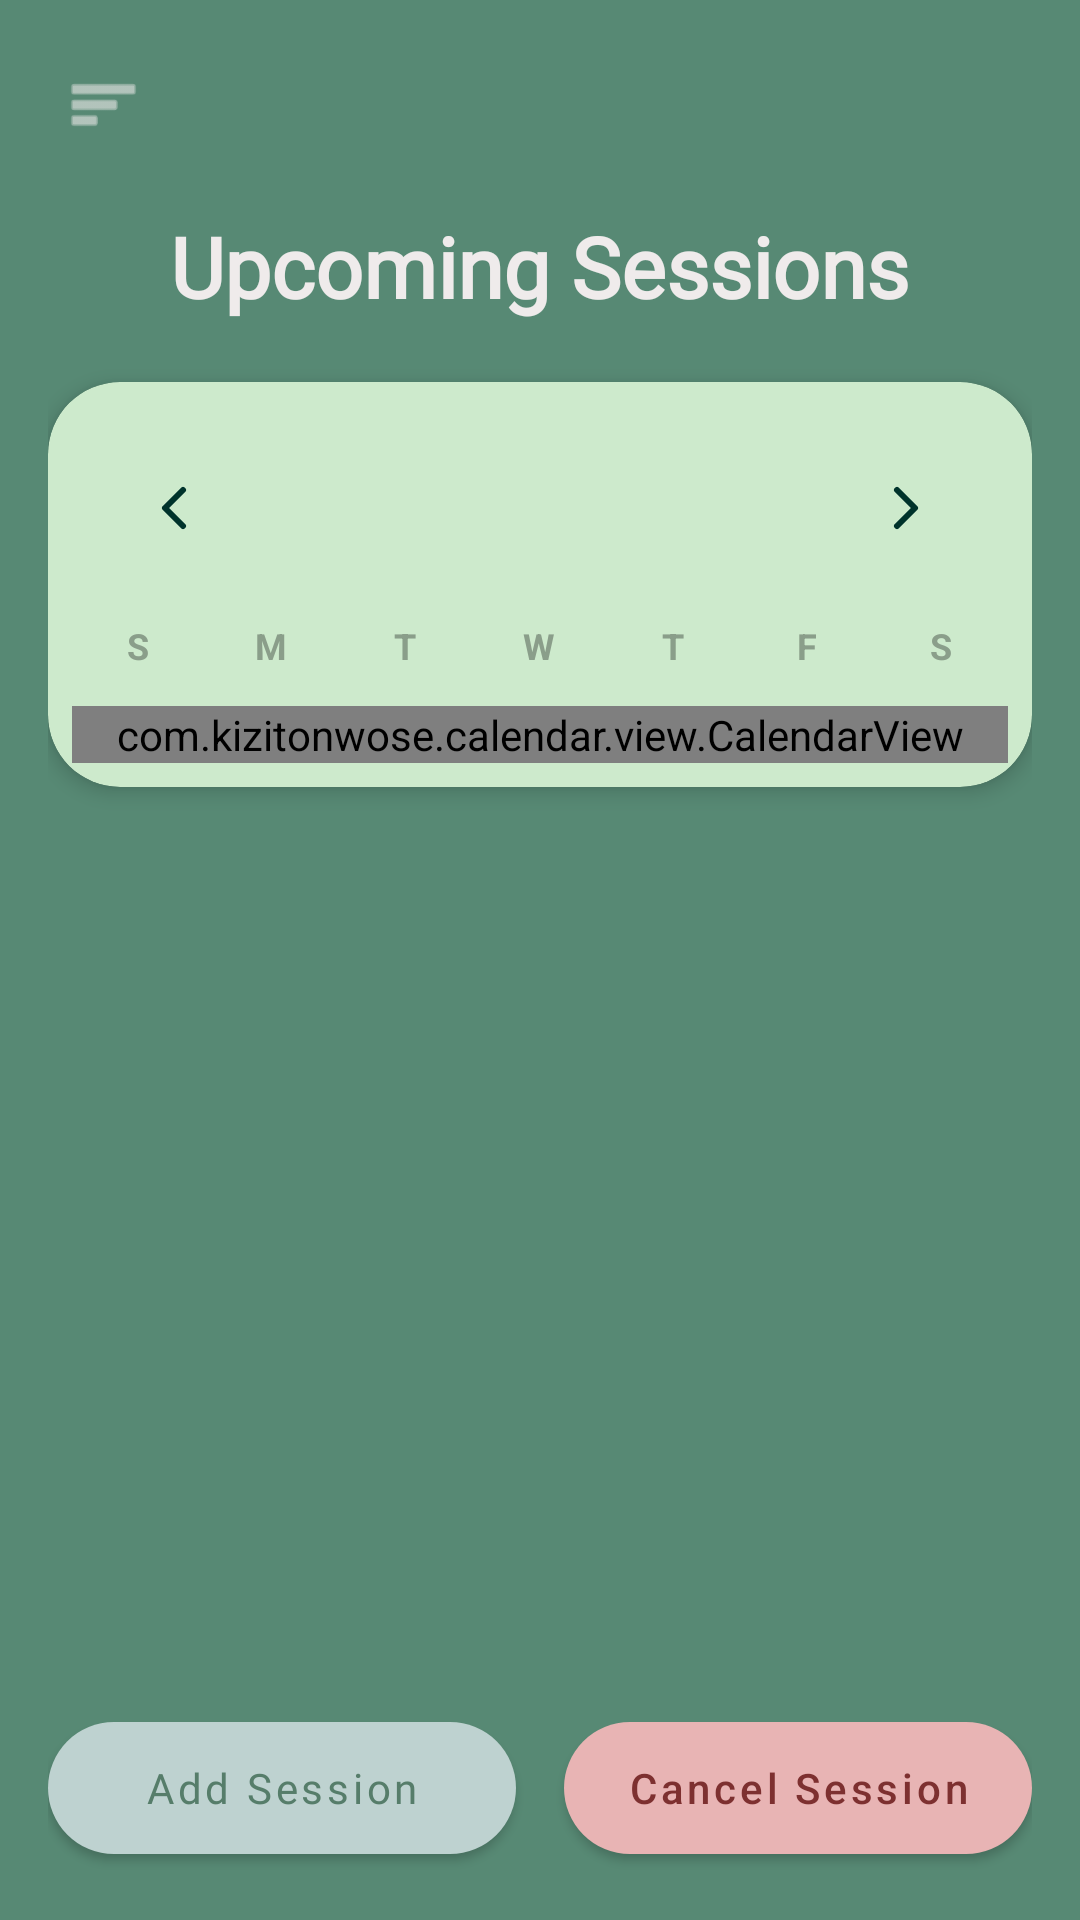

Locate icon controls on the screen. Image size 1080px×1920px, boxes as [x1,y1,x2,y2].
Next month: [894,487,918,529]
Previous month: [162,487,186,529]
sort by size: [71,84,136,126]
